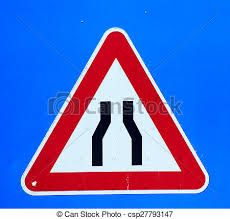Narrow_road: (22, 24, 211, 195)
